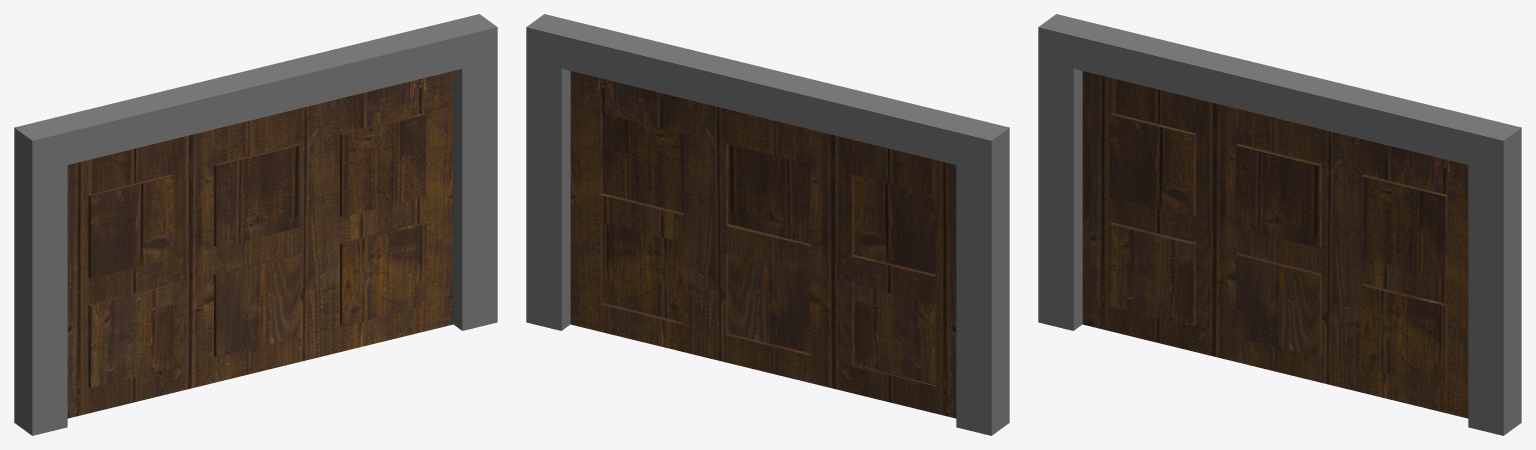
Rendered from cochera_puerta.fbx.
3 renders of one model, left to right at view 1: azimuth 30°, elevation 25°; view 2: azimuth 150°, elevation 25°; view 3: azimuth 330°, elevation 25°, orthographic.
Visible parts, largest first — view 1: pPlane1, pCube1; view 2: pPlane1, pCube1; view 3: pPlane1, pCube1.
Boxes of the visible parts, x1,y1,x2,y2 form: pPlane1: (67,71,453,418); pCube1: (14,14,497,435); pPlane1: (570,71,956,418); pCube1: (526,14,1009,435); pPlane1: (1082,71,1468,418); pCube1: (1038,14,1521,435).
Bounding box in the file's own units: 14.81 × 8.98 × 1.
